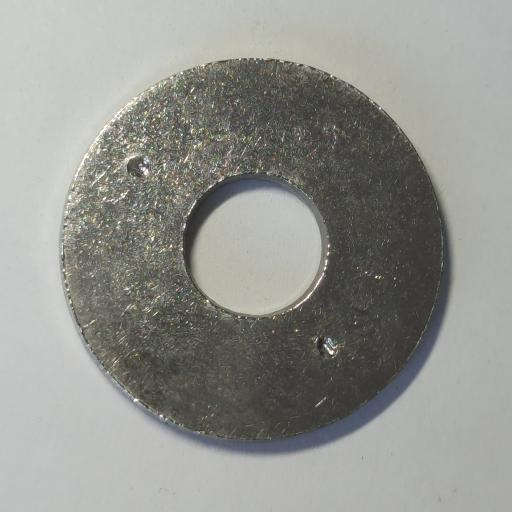circular_cavity: (317, 336, 340, 359), (127, 156, 150, 177)
